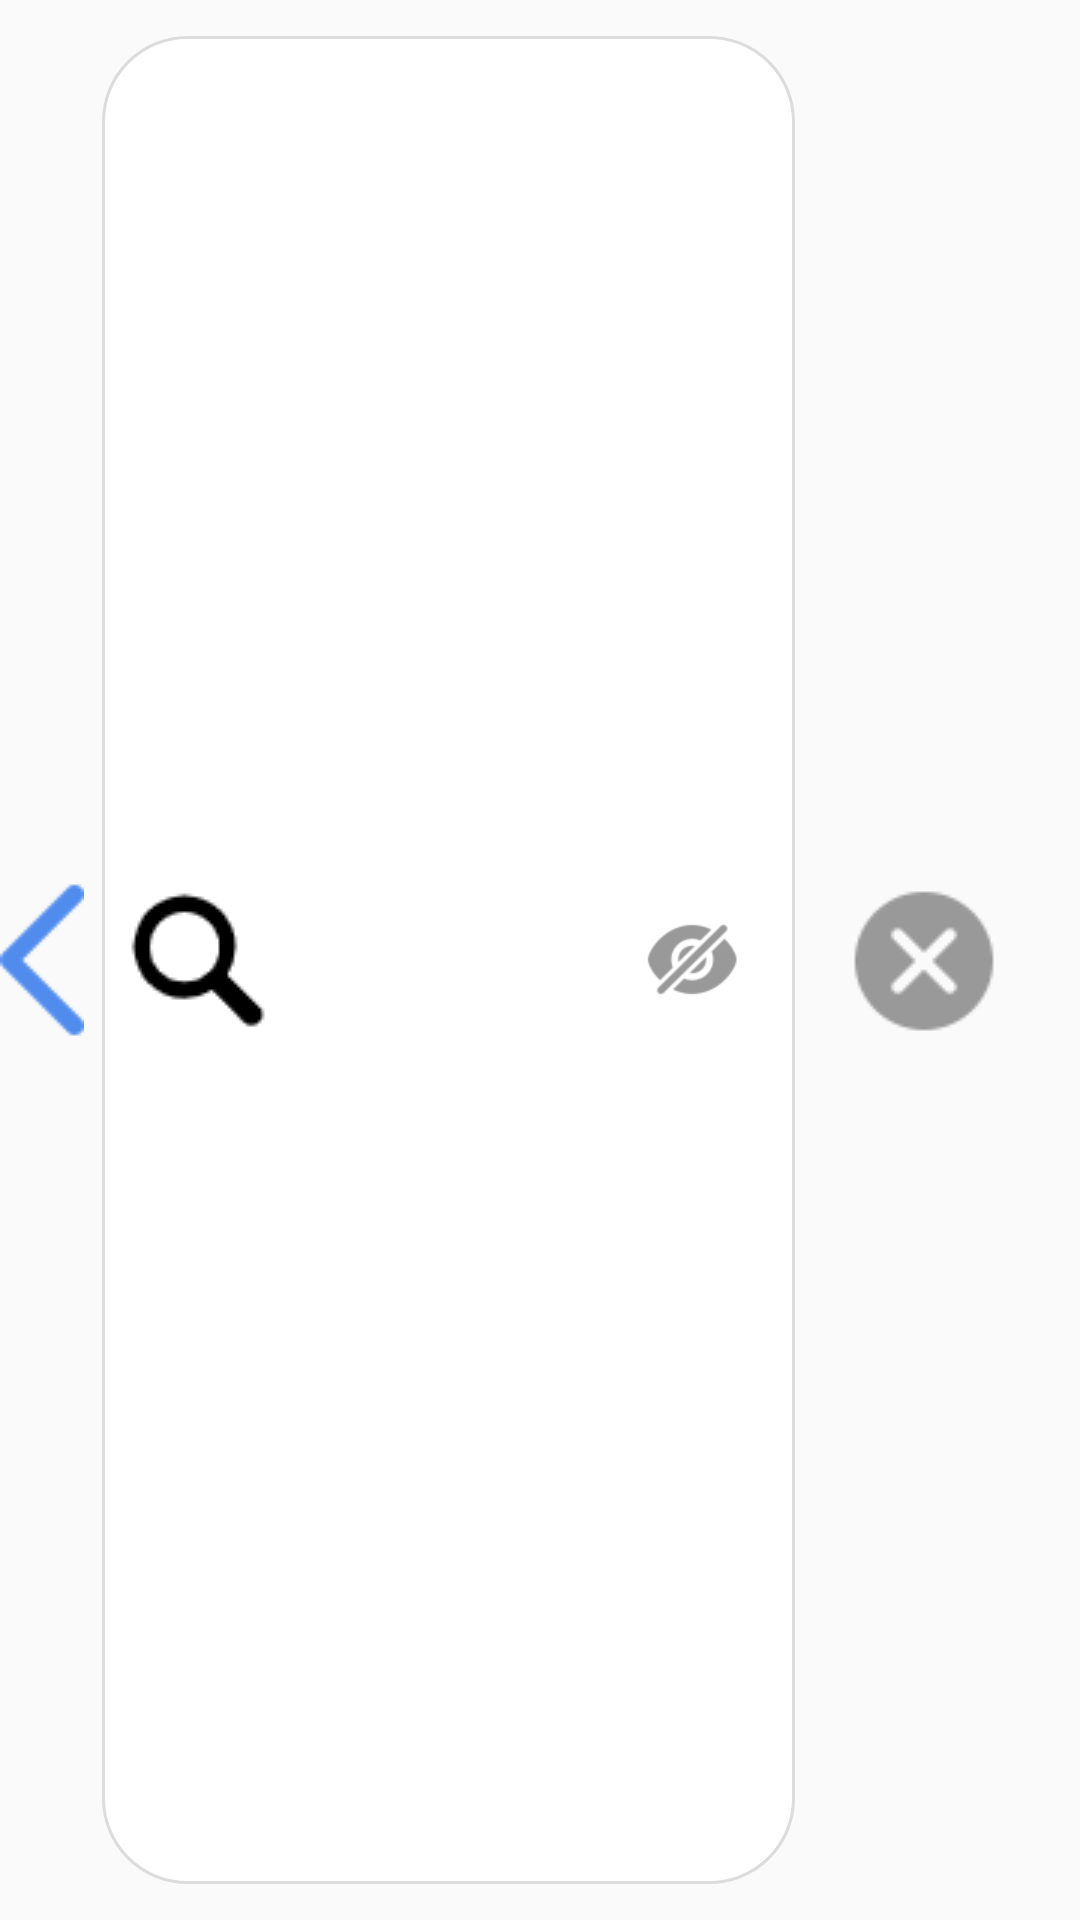

Icons on this 1080w x 1920h Android screen, each with its box as (x1, y1, x2, y2):
edt clean: (854, 891, 994, 1031)
hide password: (648, 925, 737, 994)
left arrow: (0, 884, 84, 1036)
search: (131, 893, 265, 1027)
